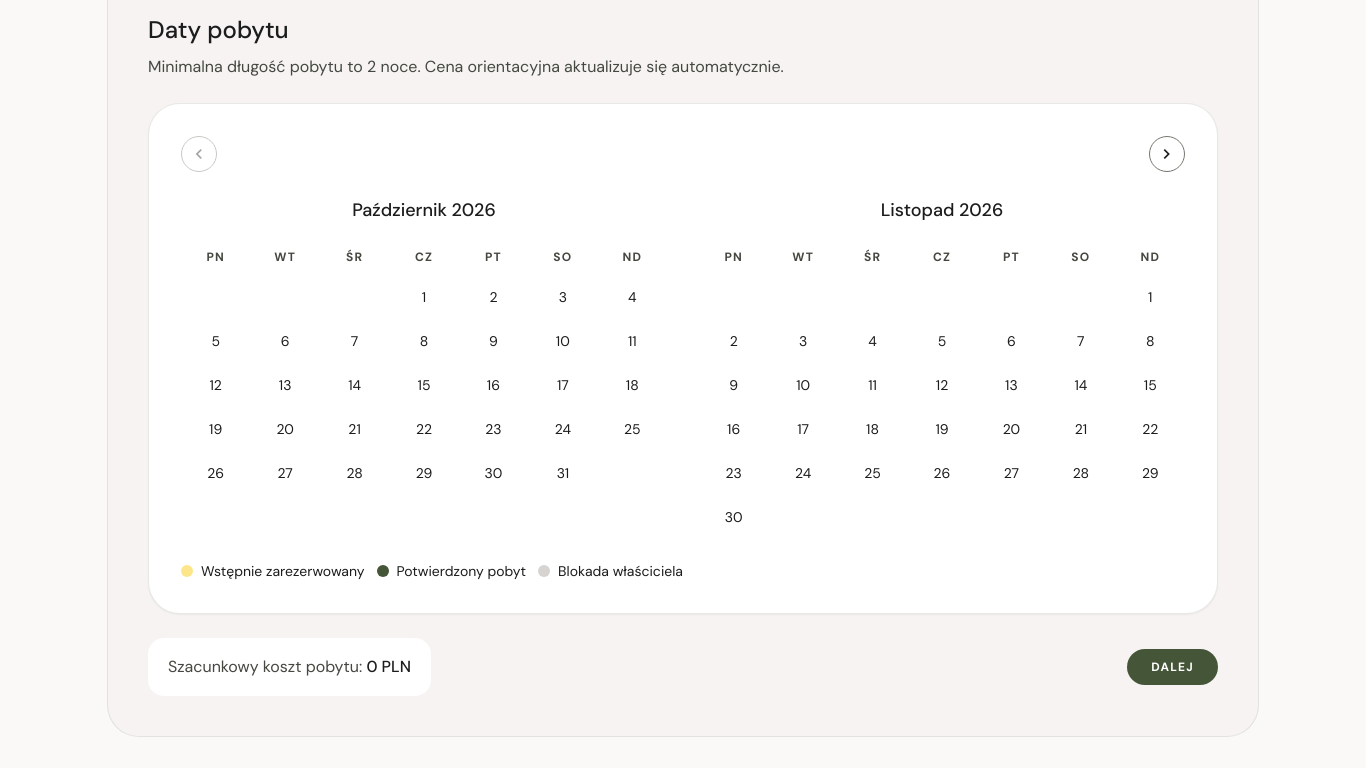
Test case: booking seasonal estimate › uses holiday priority and adds ordinary and holiday nights
(page scrolled)
Click the 2nd button "11" at (873, 385), box [853,365,893,405]
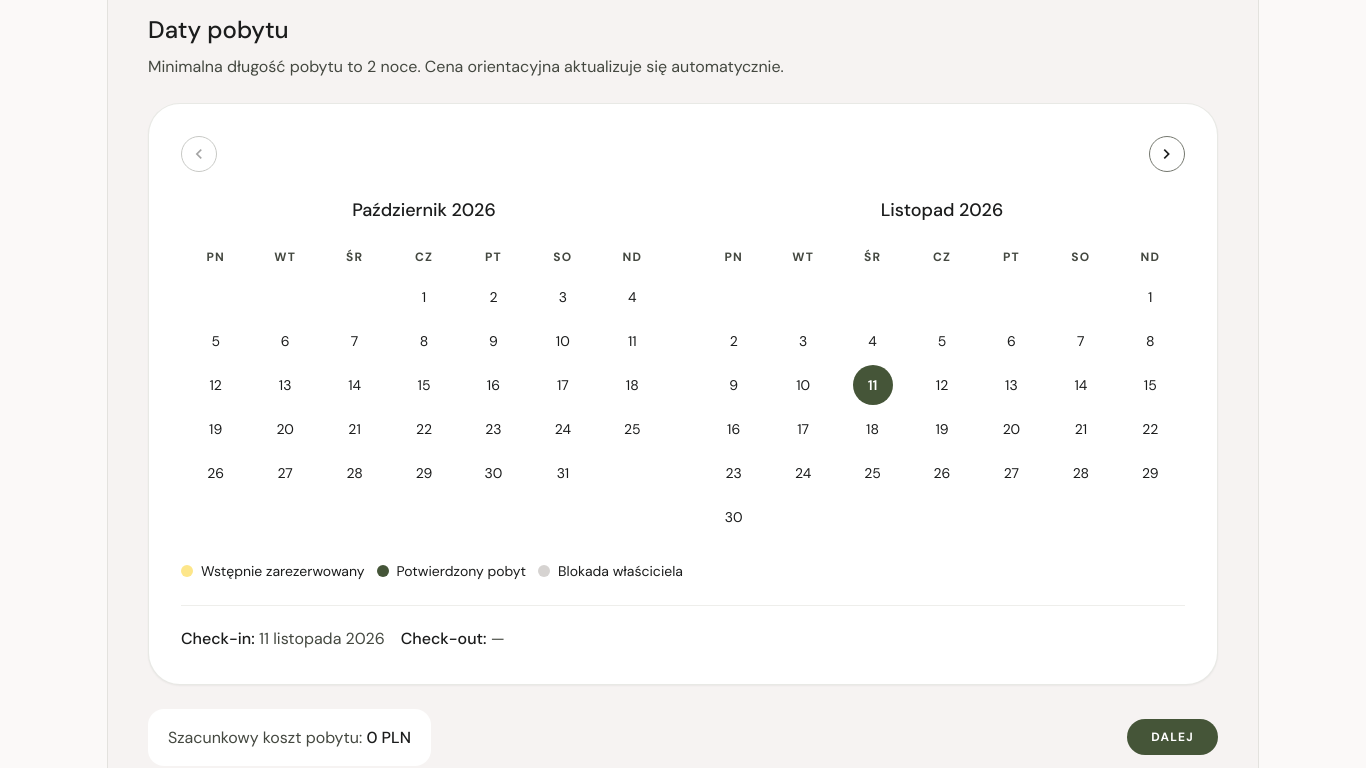
Click the 2nd button "14" at (1081, 385), box [1061,365,1101,405]
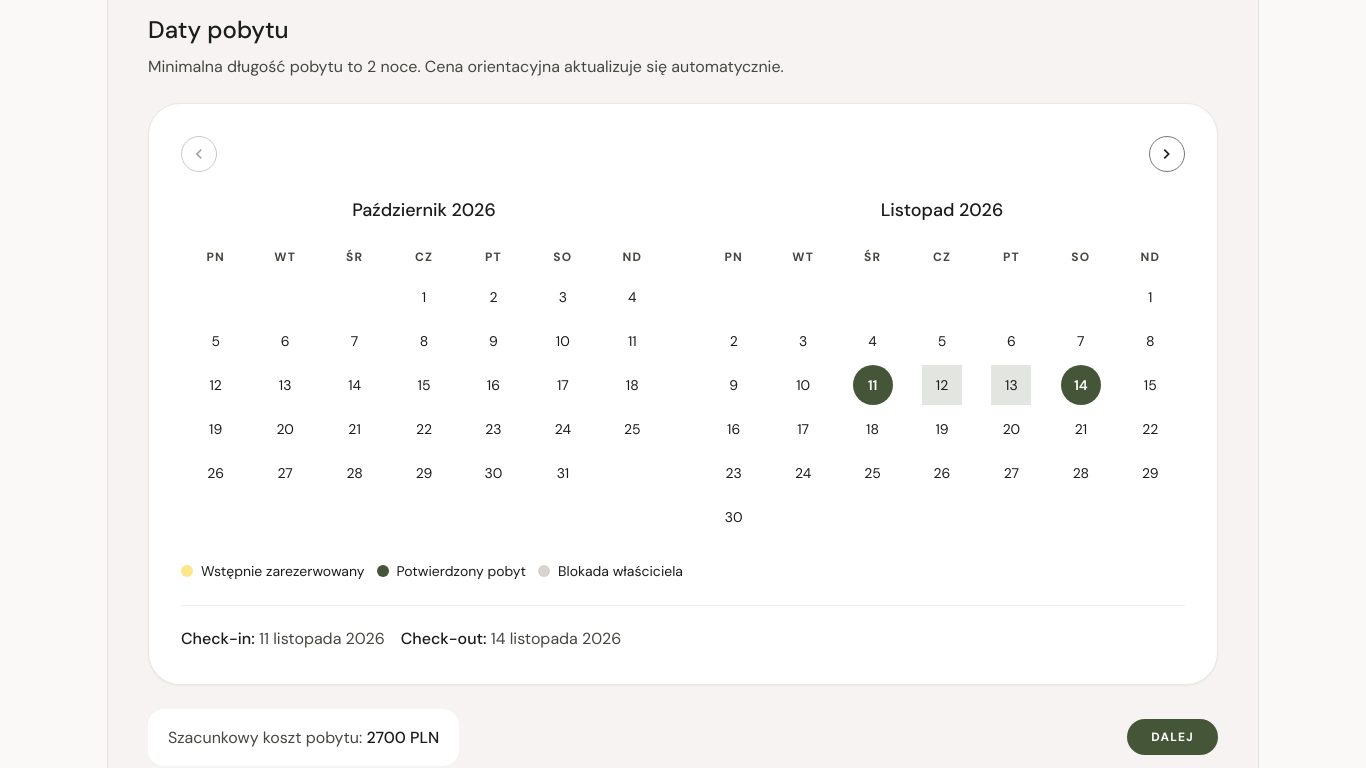
Expected: the text "2700 PLN" is shown, [366,727,439,748]
